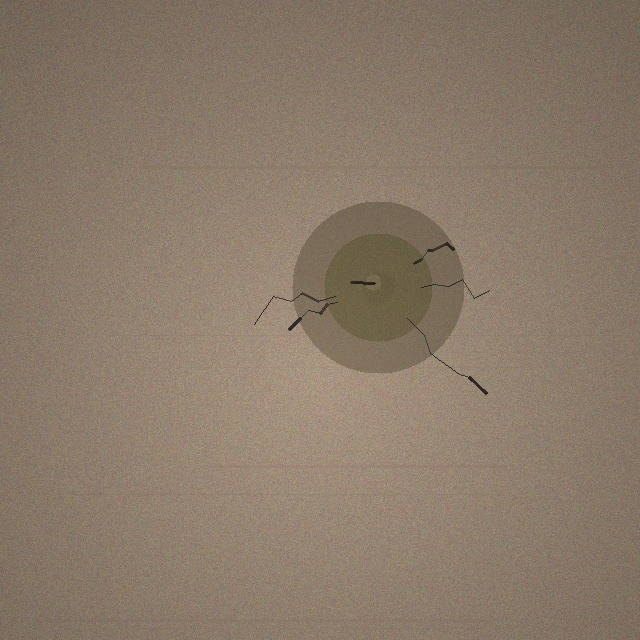crack: (292, 201, 464, 373)
